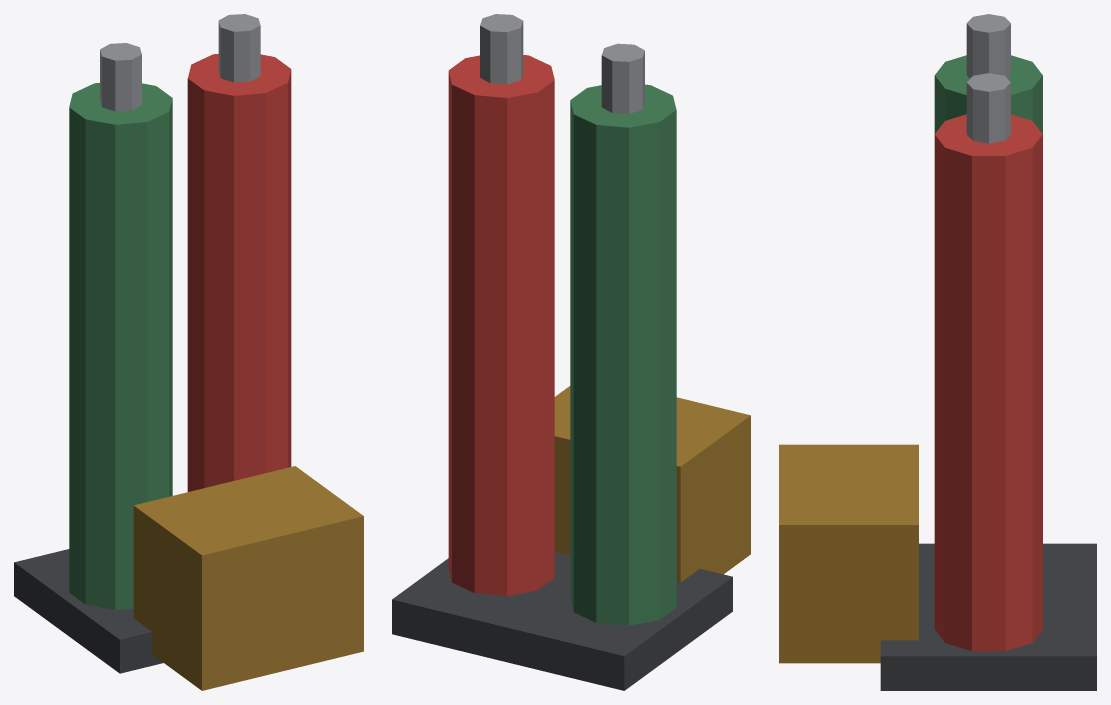
The model's file is welding_set.glb.
The picture shows the model from 3 angles, left to right: view 1: azimuth 30°, elevation 25°; view 2: azimuth 150°, elevation 25°; view 3: azimuth 270°, elevation 25°; orthographic projection. The views are drawn at different scales.
Visible parts, largest first — view 1: welding_set; view 2: welding_set; view 3: welding_set.
Part boxes in pixels (x1,y1,x2,y2): welding_set: (14,14,363,690); welding_set: (392,14,750,690); welding_set: (779,14,1096,690).
Size of the model in its own units: 0.42 by 1.01 by 0.5.
